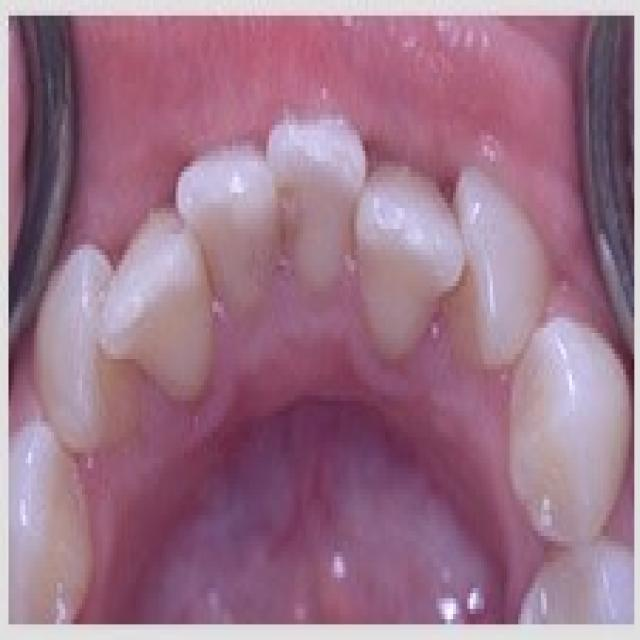tooth: (108, 203, 204, 411), (518, 328, 615, 531), (175, 146, 278, 307), (371, 141, 453, 338), (442, 141, 515, 359), (264, 109, 366, 250), (42, 250, 110, 452), (14, 437, 77, 593)
